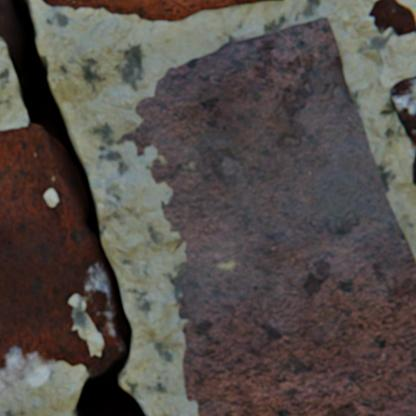brick: (121, 18, 415, 415), (0, 125, 113, 392), (41, 0, 283, 22), (389, 77, 415, 146), (367, 0, 415, 37), (411, 149, 415, 186), (0, 0, 4, 36)
crack: (1, 0, 146, 415)
